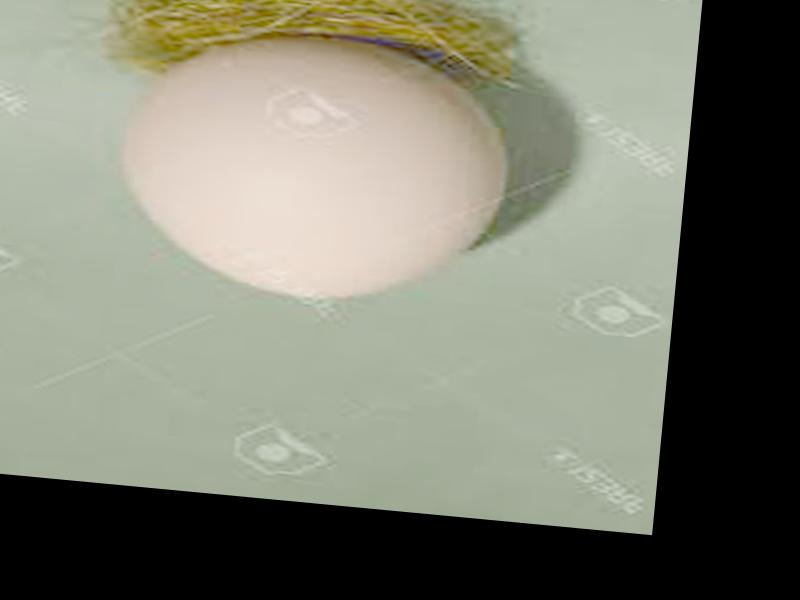Eggs: (113, 24, 516, 316)
